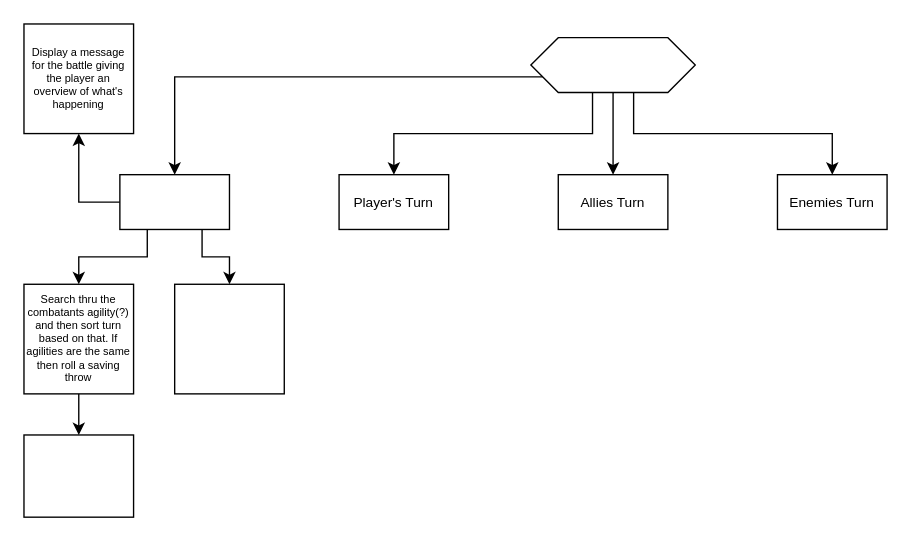
Image size: 911x541. Some labels were removed from this diagram. Each missing label, with the box of its shape:
COMBAT!!!: (530, 36, 695, 92)
Initialize: (119, 173, 229, 229)
Sort the combatants turns into an array and then start...: (23, 434, 134, 517)
